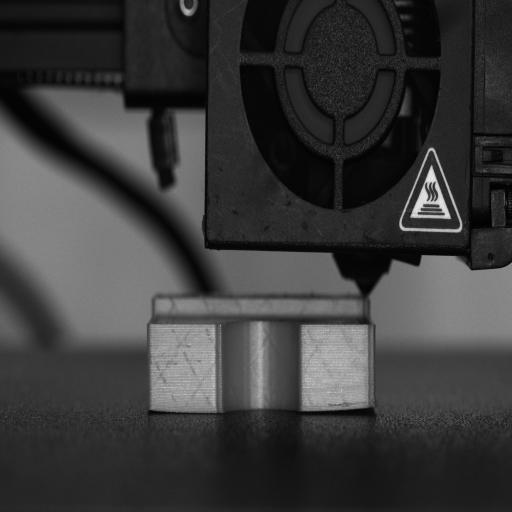warp: (332, 396, 379, 418)
